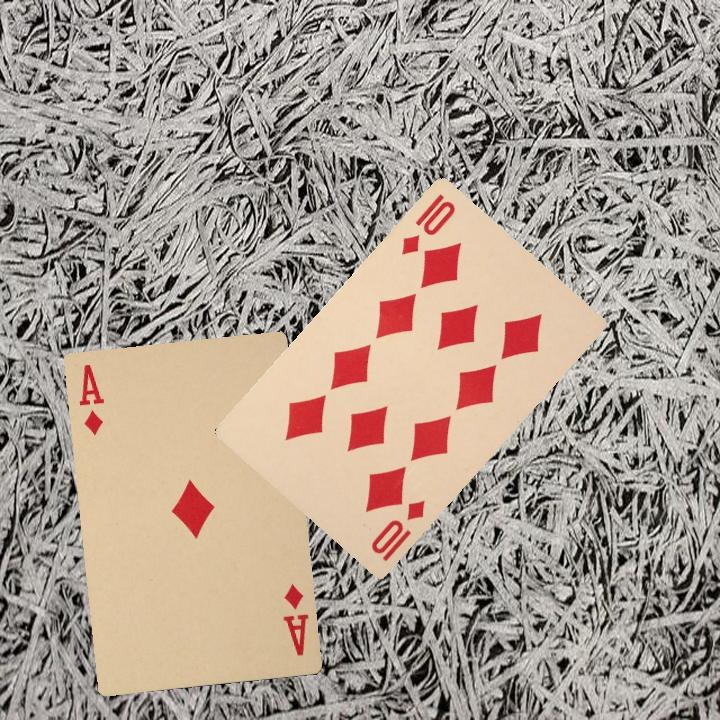10d: (397, 189, 458, 258), (367, 495, 428, 564)
Ad: (74, 360, 107, 438), (279, 582, 311, 658)
